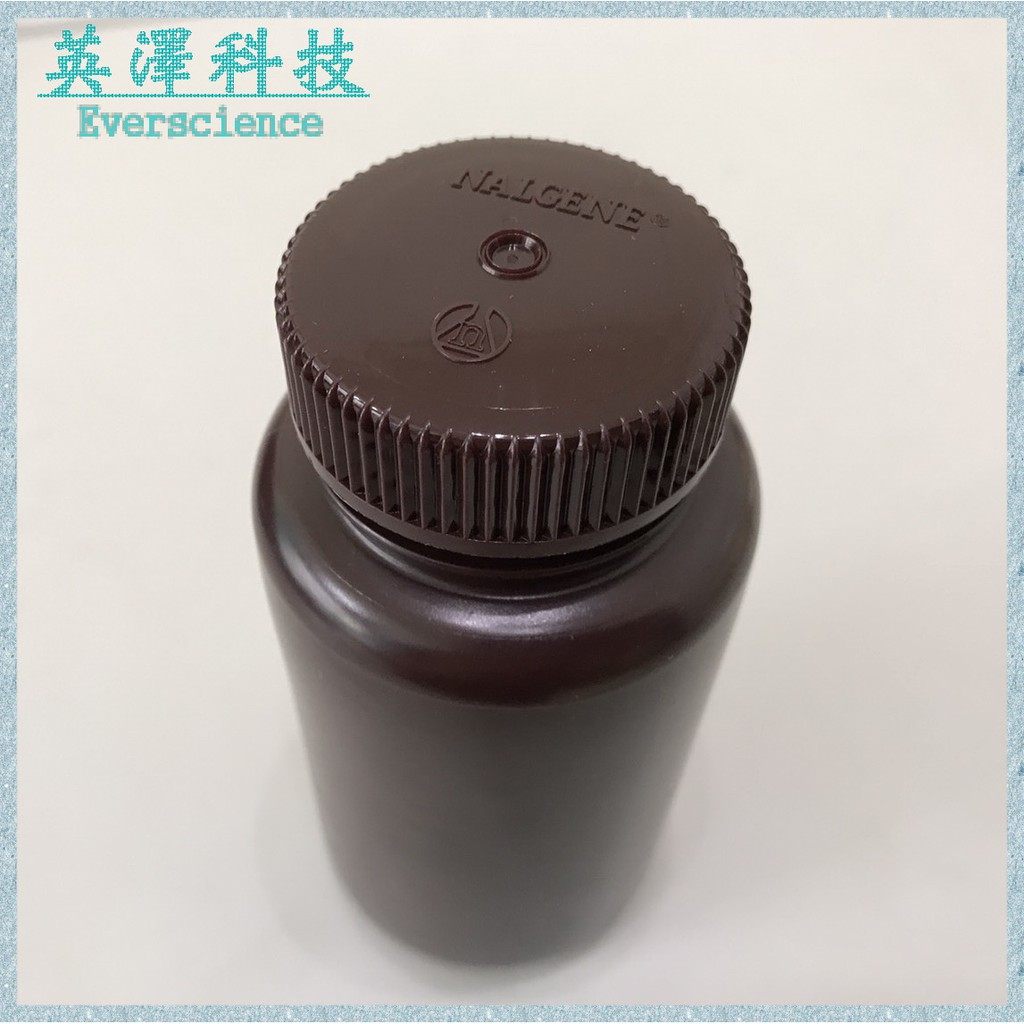medicinejar: (238, 123, 767, 983)
